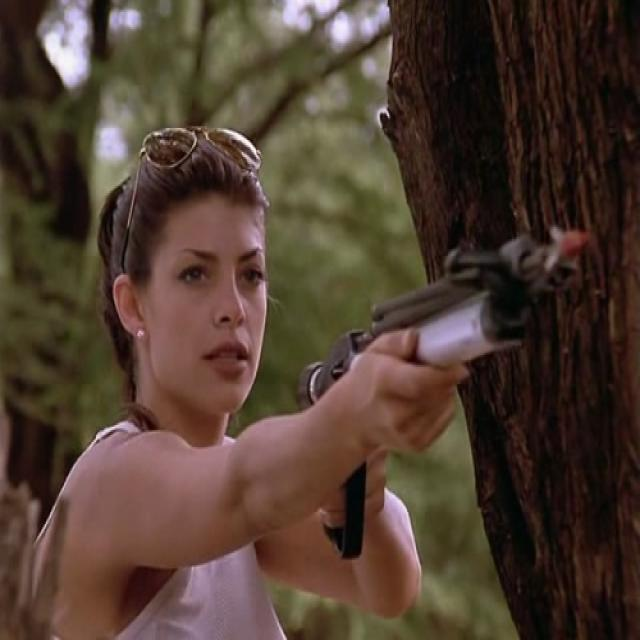rifle: (291, 218, 597, 563)
